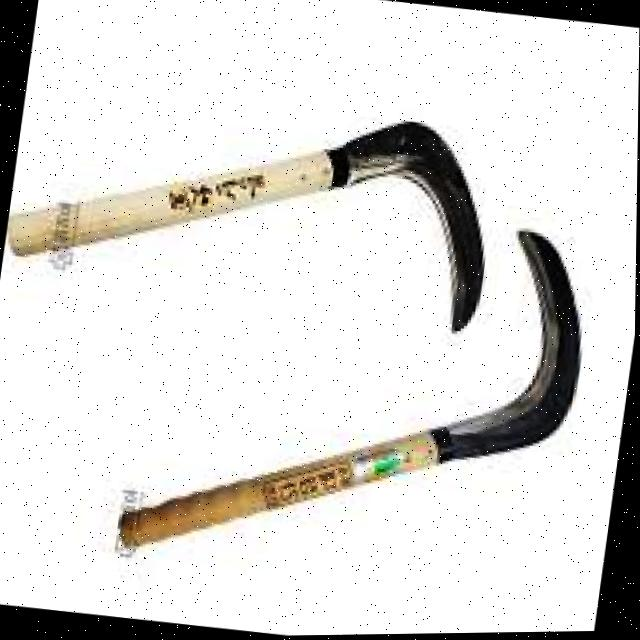sickle: (107, 166, 625, 613), (6, 87, 514, 381)
